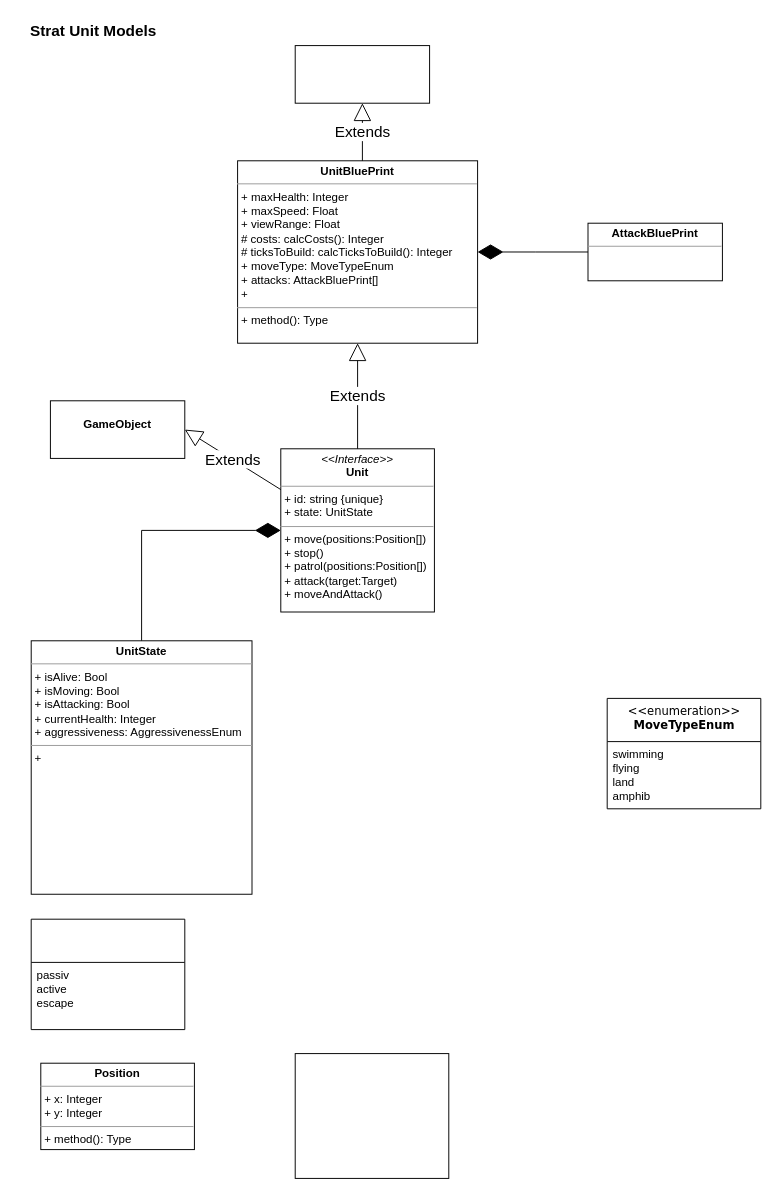
The diagram is 778 pixels wide and 1195 high, and some of its shapes have lost their labels. The box of each missing label's shape, as (x1, y1, x2, y2) in pixels:
<<enumeration>> AggressivnessEnum: (30, 918, 185, 1030)
BluePrint: (294, 45, 430, 103)
Target + position:Position + isUnit; Bool + + method(): Type: (294, 1053, 449, 1178)
